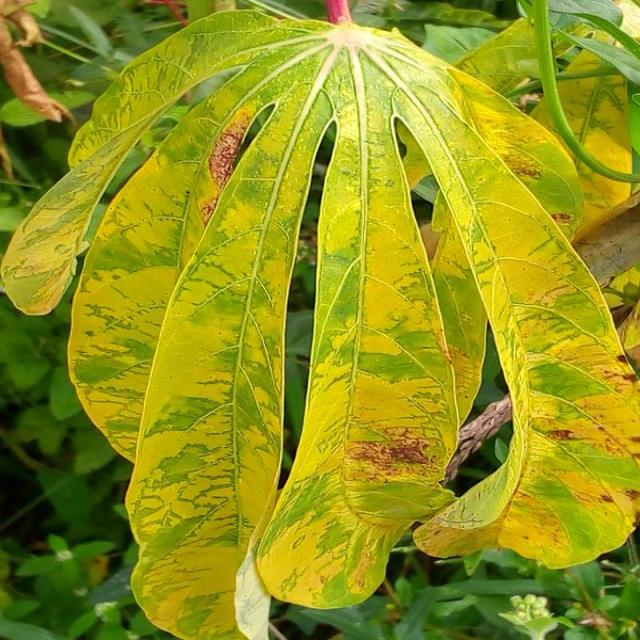cassava leaf: (3, 4, 639, 637)
